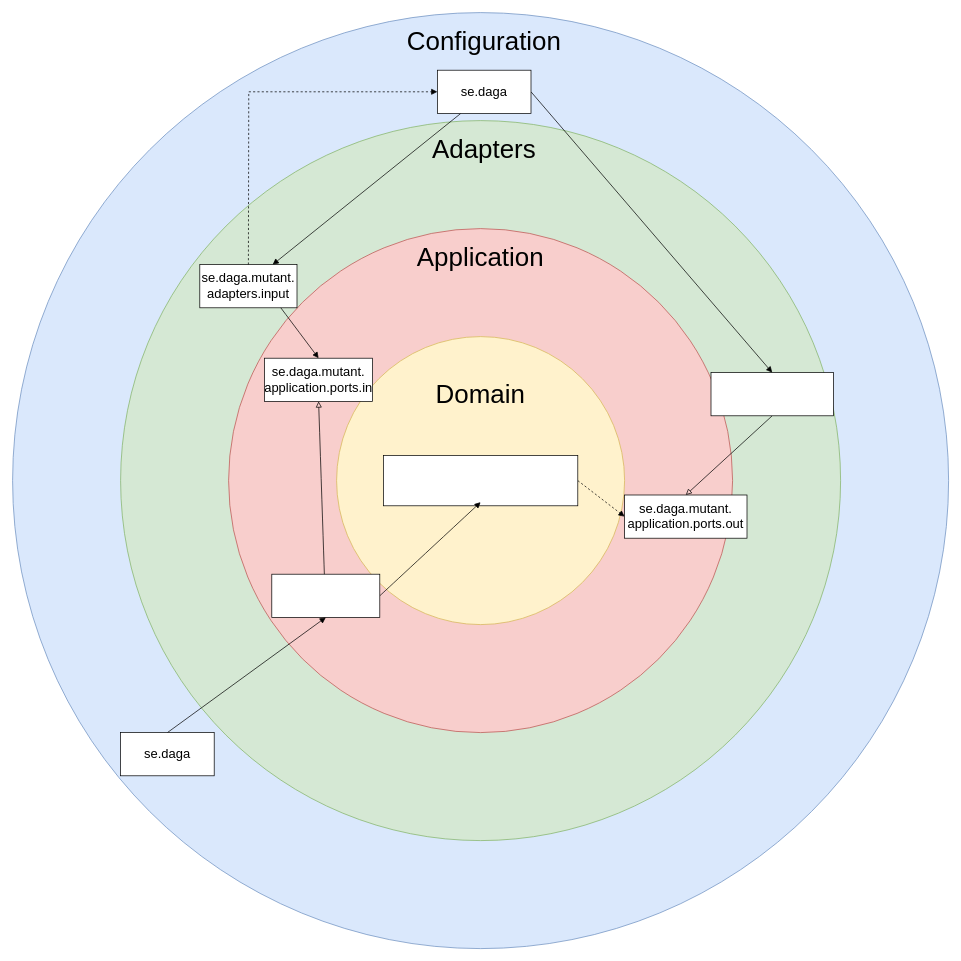
Some shapes in this 961 by 961 pixel diagram are drawn without their labels. The shapes that lost their labels are listed below. From the top down, each one's box as (x1, y1, x2, y2) in pixels, then its label:
(710, 372, 833, 416): se.daga.mutant. application.ports.out.
(383, 455, 578, 506): se.daga.mutant.domain
(271, 573, 380, 617): se.daga.mutant. application.service
